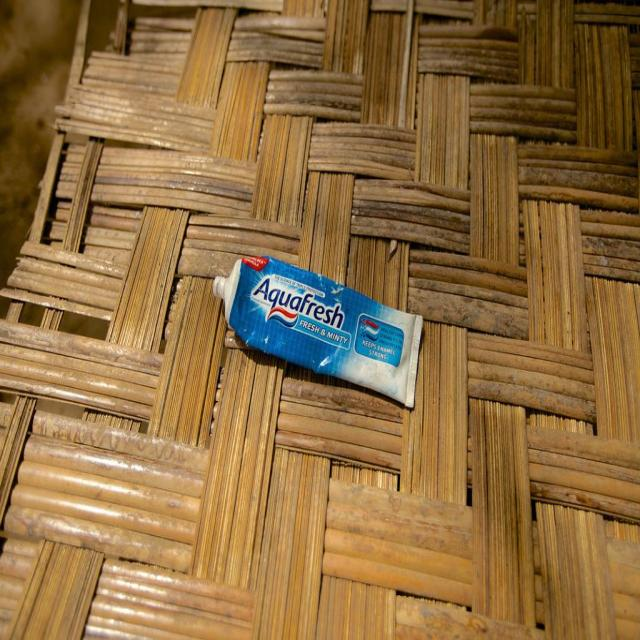Toothpaste: (203, 244, 427, 418)
